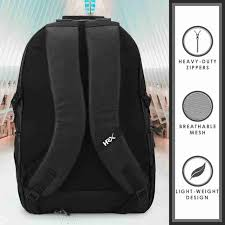backpack: (10, 15, 155, 214)
